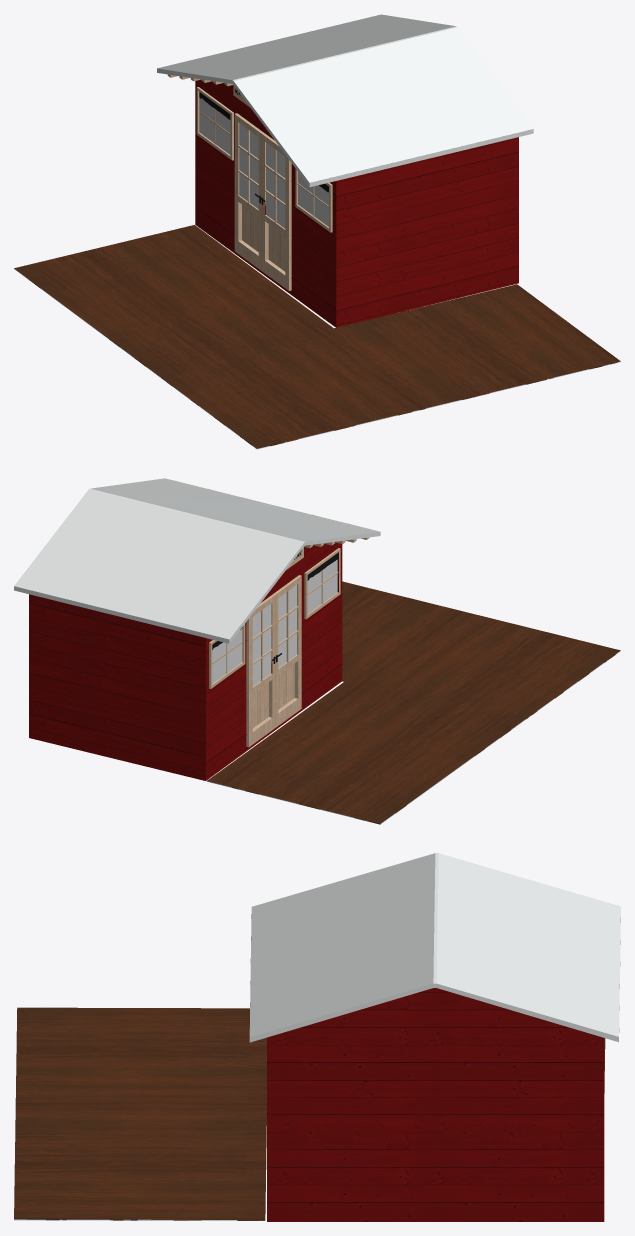
File: ChaletPereNoel.fbx
3 views of the same model, one above another, from view 1: azimuth 30°, elevation 25°; view 2: azimuth 150°, elevation 25°; view 3: azimuth 270°, elevation 25° (orthographic). The views are drawn at different scales.
Parts seen in each view (by area): view 1: SolPereNoel, Maison, Toit, Porte, Vitres; view 2: SolPereNoel, Maison, Toit, Porte, Vitres; view 3: Maison, SolPereNoel, Toit.
Boxes of the visible parts, x1,y1,x2,y2 form: SolPereNoel: [14, 225, 620, 449]; Maison: [195, 79, 518, 327]; Toit: [157, 14, 533, 187]; Porte: [234, 113, 291, 290]; Vitres: [199, 97, 328, 228]; SolPereNoel: [206, 581, 620, 824]; Maison: [29, 542, 342, 780]; Toit: [14, 478, 380, 643]; Porte: [246, 575, 301, 747]; Vitres: [212, 559, 337, 686]; Maison: [267, 988, 604, 1221]; SolPereNoel: [14, 1007, 605, 1220]; Toit: [249, 853, 620, 1042].
Size of the model in its own units: 612 by 317 by 716.
